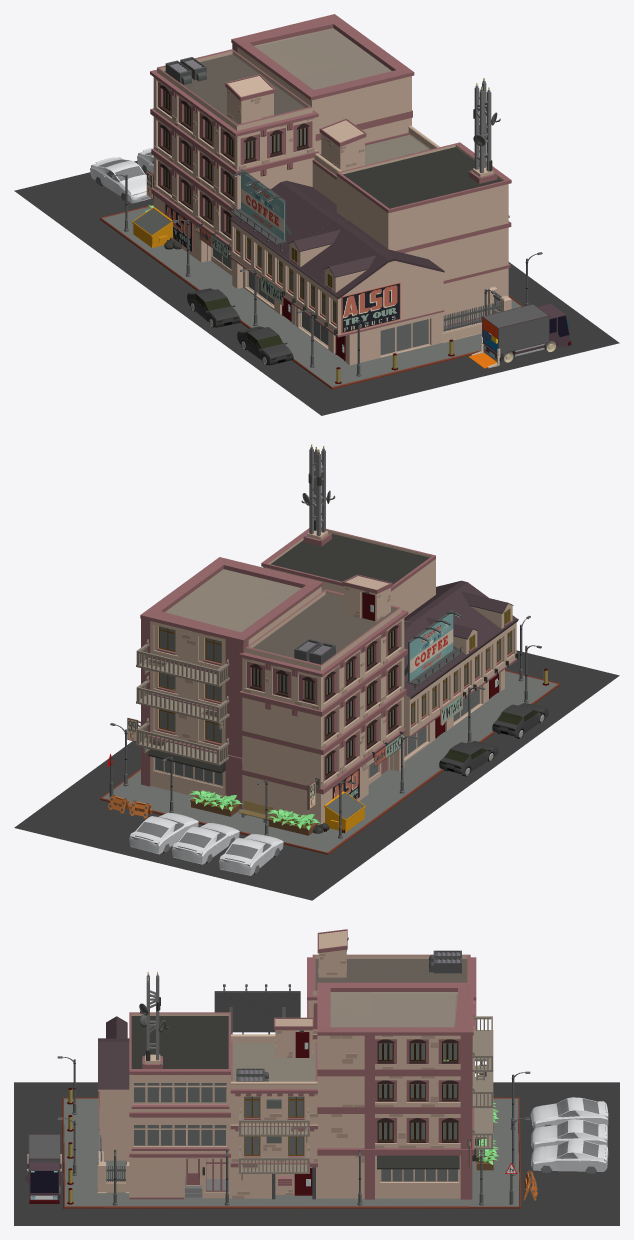
The model's file is cityblock-transformed.glb.
The picture shows the model from 3 angles, top to bottom: view 1: azimuth 30°, elevation 25°; view 2: azimuth 150°, elevation 25°; view 3: azimuth 270°, elevation 25°; orthographic projection.
Parts seen in each view (by area): view 1: Plane_Material.016_0, house_prefab_2.002_Material.006_0, Cube.002_Material.006_0, house_prefab_3.002_Material.006_0, Cube.002_Material.007_0, house_prefab_2.002_Material.005_0, Cube.006_sidewalk_0, Cube.001_Material.007_0, house_prefab_3.002_Material.017_0, Cube.001_Material.013_0, Cube.001_Material.006_0, truck_open.001_master_texture_0 (+28 smaller); view 2: Plane_Material.016_0, Cube.002_Material.006_0, Cube.001_Material.013_0, Cube.002_Material.007_0, Cube.001_Material.007_0, Cube.001_Material.006_0, Cube.006_sidewalk_0, house_prefab_2.002_Material.005_0, Cube.002_Material.012_0, house_prefab_3.002_Material.017_0, house_prefab_3.002_Material.006_0, Cube.001_Material.004_0 (+27 smaller); view 3: Plane_Material.016_0, Cube.001_Material.007_0, Cube.001_Material.006_0, house_prefab_2.002_Material.006_0, Cube.001_Material.013_0, house_prefab_2.002_Material.005_0, house_prefab_4.001_Material.006_0, house_prefab_2.002_Material.007_0, house_prefab_2.002_Material.004_0, Cube.003_sidewalk_0, Cube.021_Material.009_0, Cube.001_Material.004_0 (+38 smaller).
Part boxes in pixels (x1=…): Plane_Material.016_0: x1=14, y1=160, x2=619, y2=415; house_prefab_2.002_Material.006_0: x1=336, y1=144, x2=508, y2=325; Cube.002_Material.006_0: x1=153, y1=50, x2=316, y2=288; house_prefab_3.002_Material.006_0: x1=284, y1=242, x2=443, y2=365; Cube.002_Material.007_0: x1=150, y1=49, x2=318, y2=251; house_prefab_2.002_Material.005_0: x1=343, y1=147, x2=501, y2=208; Cube.006_sidewalk_0: x1=122, y1=230, x2=343, y2=368; Cube.001_Material.007_0: x1=231, y1=14, x2=414, y2=140; house_prefab_3.002_Material.017_0: x1=283, y1=218, x2=444, y2=299; Cube.001_Material.013_0: x1=254, y1=28, x2=391, y2=89; Cube.001_Material.006_0: x1=238, y1=48, x2=411, y2=154; truck_open.001_master_texture_0: x1=469, y1=304, x2=571, y2=368; Plane_Material.016_0: x1=14, y1=650, x2=619, y2=900; Cube.002_Material.006_0: x1=241, y1=591, x2=404, y2=825; Cube.001_Material.013_0: x1=136, y1=569, x2=301, y2=765; Cube.002_Material.007_0: x1=239, y1=589, x2=408, y2=794; Cube.001_Material.007_0: x1=140, y1=557, x2=322, y2=809; Cube.001_Material.006_0: x1=151, y1=587, x2=321, y2=798; Cube.006_sidewalk_0: x1=323, y1=694, x2=531, y2=838; house_prefab_2.002_Material.005_0: x1=271, y1=533, x2=429, y2=584; Cube.002_Material.012_0: x1=253, y1=594, x2=393, y2=661; house_prefab_3.002_Material.017_0: x1=404, y1=580, x2=518, y2=660; house_prefab_3.002_Material.006_0: x1=404, y1=603, x2=516, y2=727; Cube.001_Material.004_0: x1=155, y1=627, x2=222, y2=785; Plane_Material.016_0: x1=14, y1=1082, x2=619, y2=1225; Cube.001_Material.007_0: x1=317, y1=982, x2=474, y2=1199; Cube.001_Material.006_0: x1=317, y1=1035, x2=460, y2=1198; house_prefab_2.002_Material.006_0: x1=129, y1=1013, x2=230, y2=1198; Cube.001_Material.013_0: x1=330, y1=992, x2=493, y2=1157; house_prefab_2.002_Material.005_0: x1=131, y1=1016, x2=228, y2=1176; house_prefab_4.001_Material.006_0: x1=230, y1=1093, x2=317, y2=1198; house_prefab_2.002_Material.007_0: x1=129, y1=1012, x2=230, y2=1199; house_prefab_2.002_Material.004_0: x1=134, y1=1083, x2=226, y2=1145; Cube.003_sidewalk_0: x1=111, y1=1192, x2=469, y2=1206; Cube.021_Material.009_0: x1=214, y1=984, x2=300, y2=1034; Cube.001_Material.004_0: x1=378, y1=1043, x2=457, y2=1181.
Size of the model in its own units: 28.88 by 21.15 by 51.56.
Materials: 6 (6 with a texture image).
